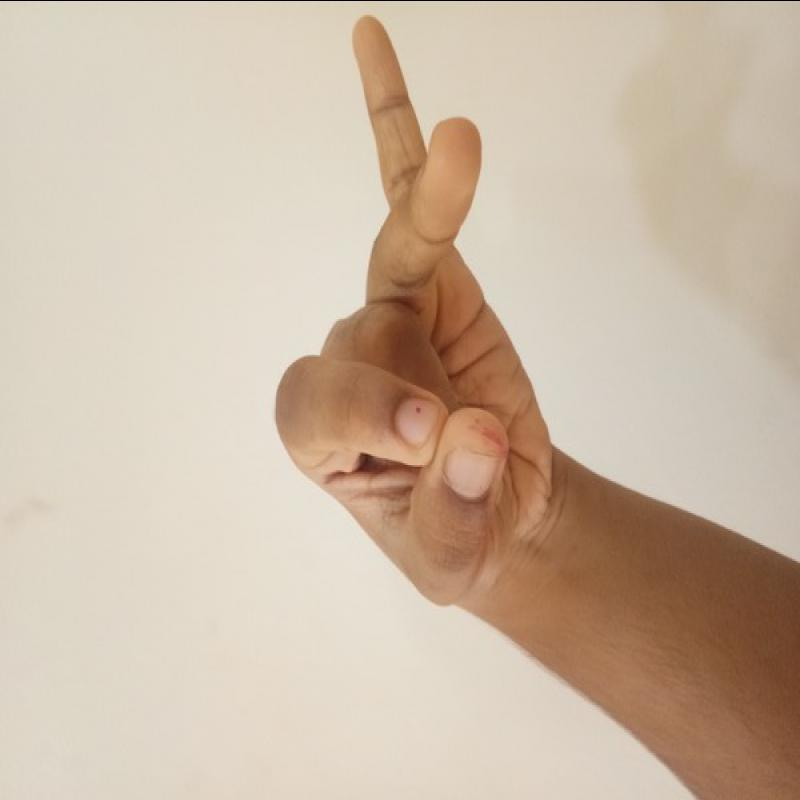Katakam: (250, 1, 574, 609)
